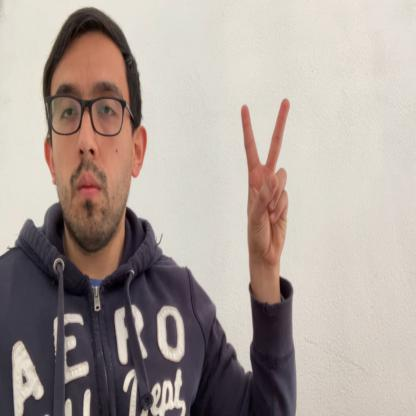V: (241, 98, 290, 262)
